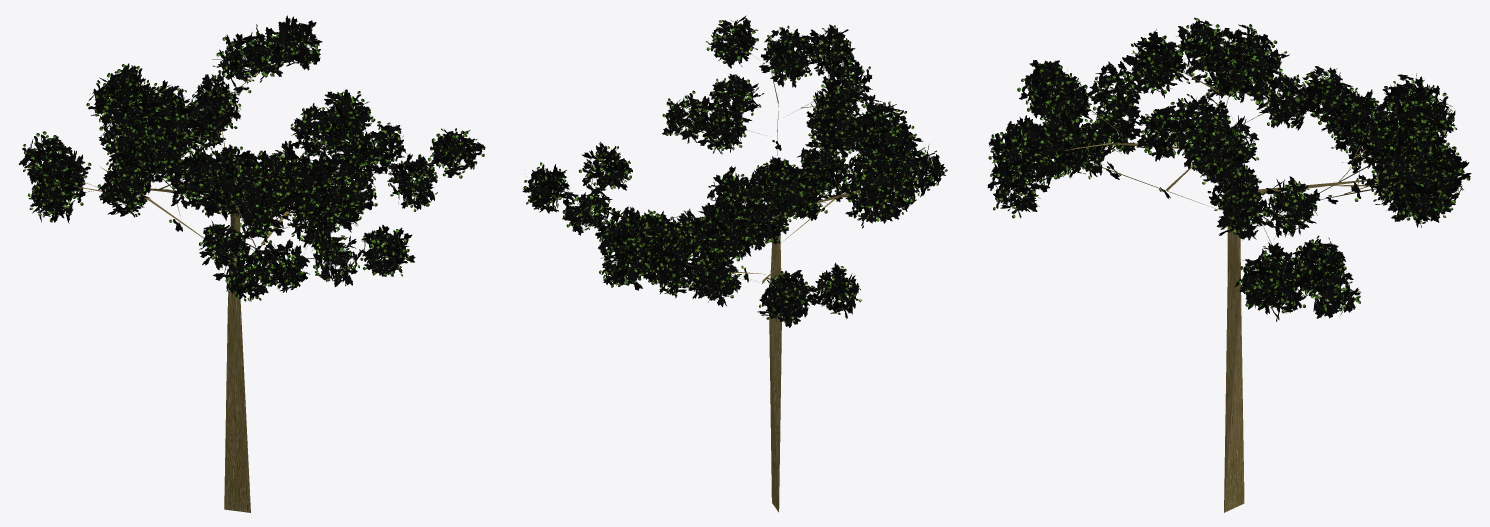
Rendered from pine_open_v02_LOD1.fbx.
The picture shows the model from 3 angles, left to right: view 1: azimuth 30°, elevation 25°; view 2: azimuth 150°, elevation 25°; view 3: azimuth 270°, elevation 25°; orthographic projection. The views are drawn at different scales.
Visible parts, largest first — view 1: pine_open_v02_LOD1; view 2: pine_open_v02_LOD1; view 3: pine_open_v02_LOD1.
Part boxes in pixels (left/top/right/bottom): pine_open_v02_LOD1: left=18, top=15, right=485, bottom=512; pine_open_v02_LOD1: left=522, top=15, right=947, bottom=512; pine_open_v02_LOD1: left=987, top=17, right=1471, bottom=512.
Size of the model in its own units: 1652 by 2022 by 2106.
2 materials, 2 textured.
